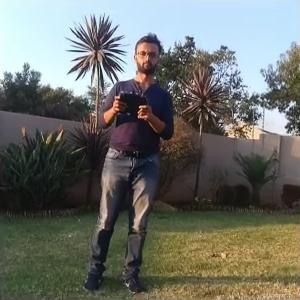follow: (76, 26, 179, 296)
